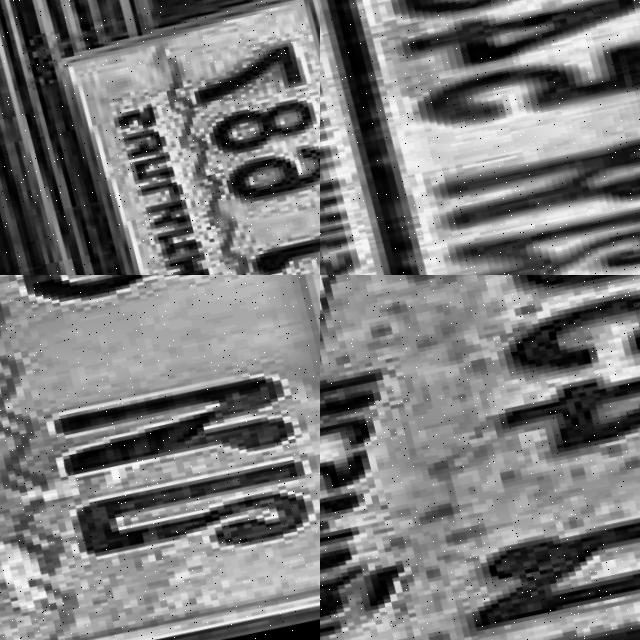license-plate: (0, 275, 320, 640), (320, 275, 640, 640), (320, 0, 640, 275), (18, 0, 320, 275)
